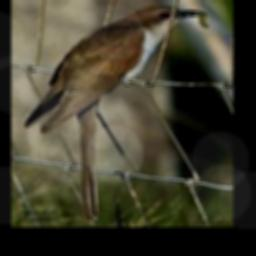Cuckoo: (25, 5, 207, 219)
